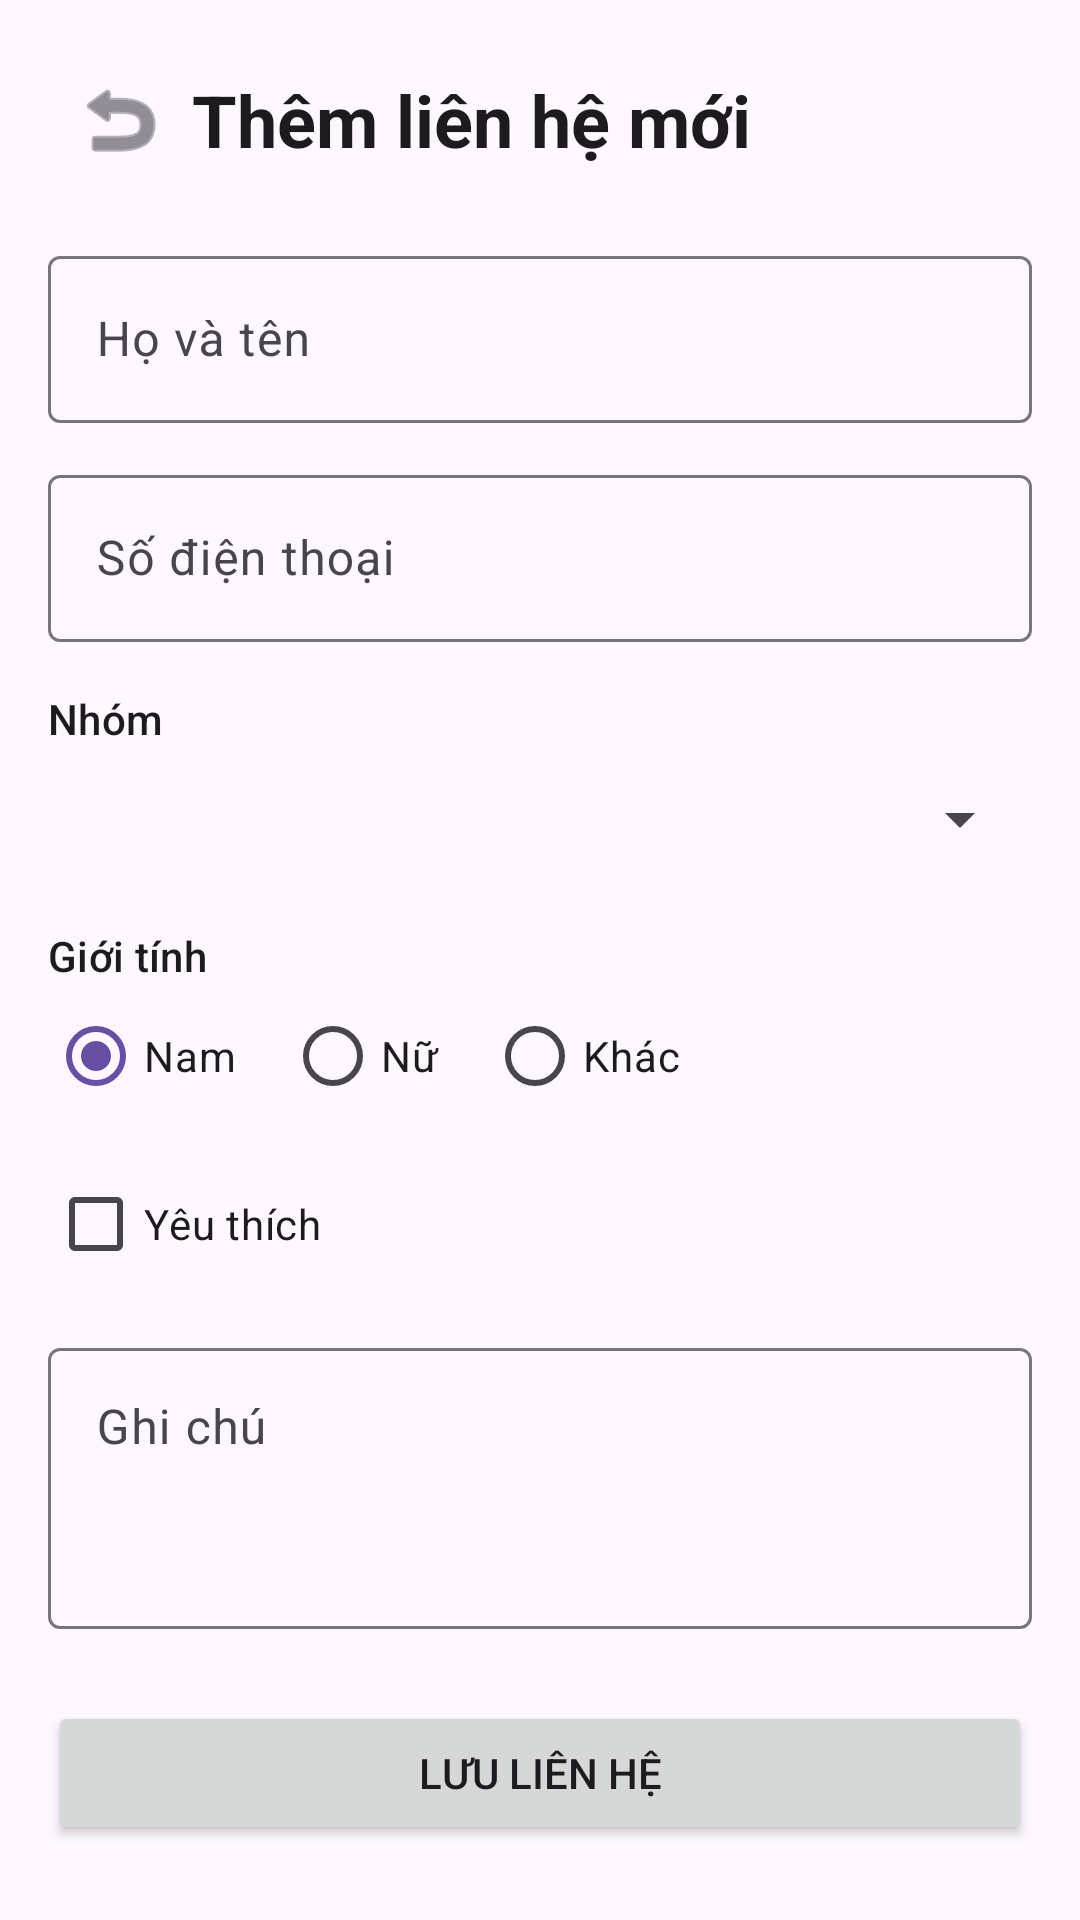

Icon bounding boxes for this 1080x1920 phone screenshot, format bbox=(x1, y1, x2, y2):
Quay lại: bbox=(87, 89, 156, 152)
